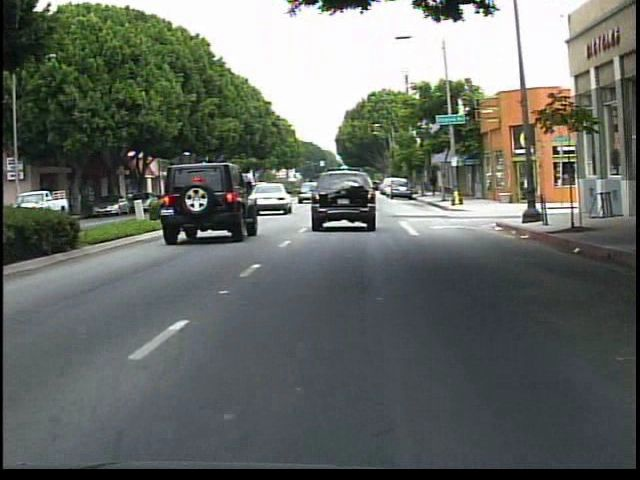person: (424, 165, 444, 202)
